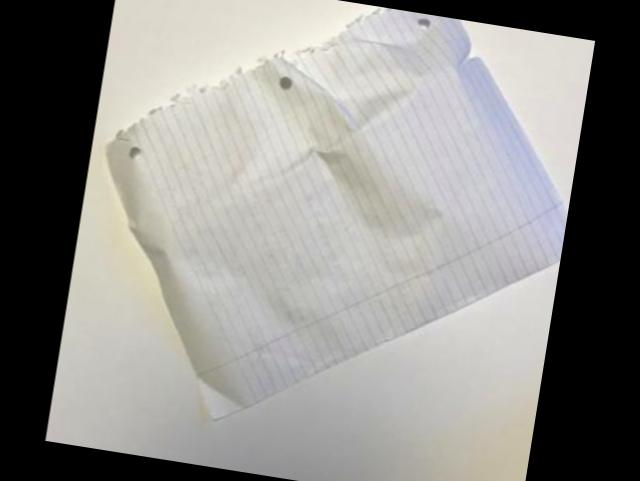cardboard paper: (109, 7, 568, 415)
